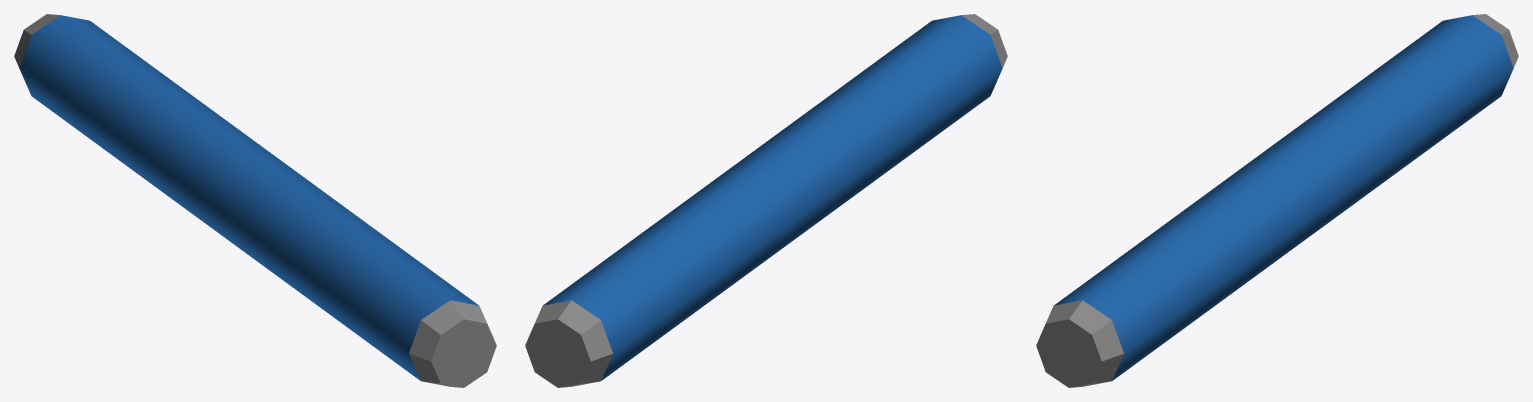
File: rod_stick_2.FBX
The picture shows the model from 3 angles, left to right: view 1: azimuth 30°, elevation 25°; view 2: azimuth 150°, elevation 25°; view 3: azimuth 330°, elevation 25°; orthographic projection.
Visible parts, largest first — view 1: rod_stick_2; view 2: rod_stick_2; view 3: rod_stick_2.
Boxes of the visible parts, bbox=[...] form: rod_stick_2: bbox=[14, 14, 496, 387]; rod_stick_2: bbox=[525, 14, 1007, 387]; rod_stick_2: bbox=[1036, 14, 1518, 387].
Size of the model in its own units: 3.11 by 3.11 by 27.12.
